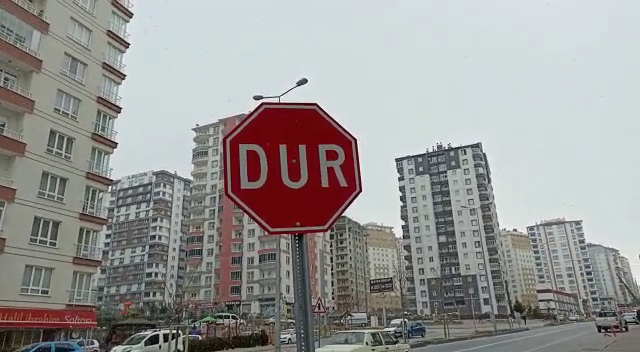stop: (218, 98, 366, 239)
